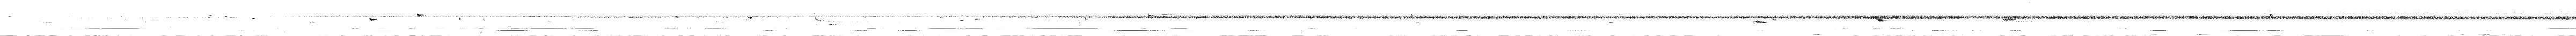meteor: (1755, 20, 1768, 23), (370, 18, 378, 21), (417, 13, 424, 16), (747, 16, 752, 20), (1148, 15, 1155, 16)
